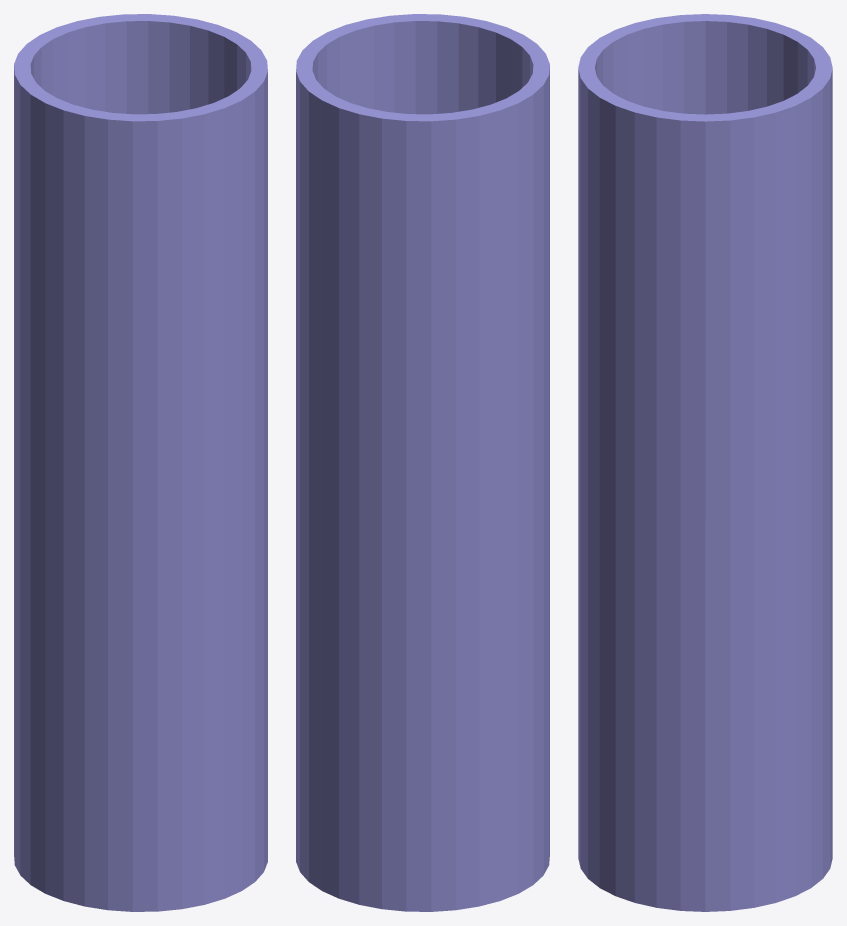
File: Tubo.fbx
The picture shows the model from 3 angles, left to right: view 1: azimuth 30°, elevation 25°; view 2: azimuth 150°, elevation 25°; view 3: azimuth 270°, elevation 25°; orthographic projection.
Parts seen in each view (by area): view 1: Tubo; view 2: Tubo; view 3: Tubo.
Part boxes in pixels (box(x1,y1,x2,y2)): Tubo: box(14, 14, 267, 911); Tubo: box(296, 14, 549, 911); Tubo: box(578, 14, 832, 911).
Bounding box in the file's own units: 0.2349 × 0.8053 × 0.2349.
